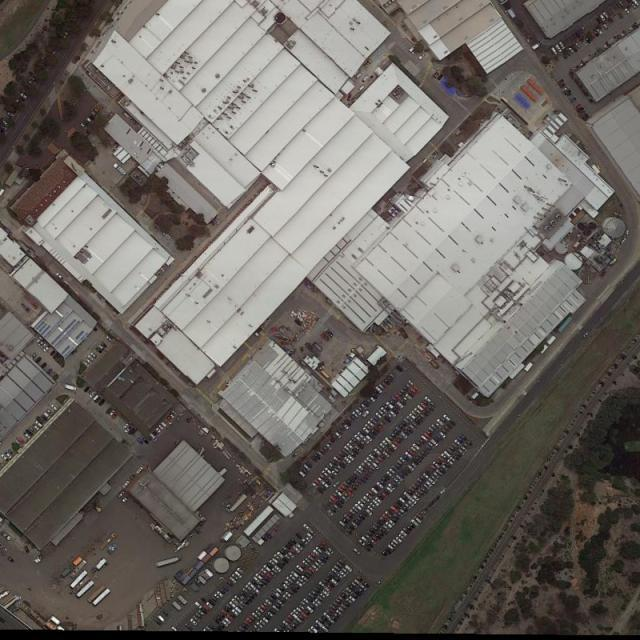vehicle: (408, 44, 418, 54), (364, 508, 374, 518), (55, 272, 65, 281), (203, 604, 213, 613), (207, 598, 217, 607), (315, 619, 324, 629), (371, 534, 380, 544), (374, 532, 383, 542), (383, 546, 393, 555), (410, 518, 419, 528), (361, 471, 370, 481), (373, 458, 382, 468), (434, 432, 444, 441), (440, 426, 449, 436), (370, 498, 379, 508), (530, 42, 541, 50), (426, 478, 437, 486), (414, 515, 422, 526), (194, 612, 203, 621), (234, 570, 243, 579), (37, 415, 46, 424), (34, 419, 43, 428), (325, 441, 334, 450), (345, 418, 354, 427), (353, 547, 362, 556), (357, 85, 366, 94), (390, 516, 399, 525), (432, 471, 441, 480), (402, 527, 411, 536), (346, 511, 355, 520), (358, 474, 367, 483), (365, 469, 374, 478), (367, 466, 376, 475), (377, 456, 386, 465), (382, 450, 391, 459), (417, 452, 426, 461), (420, 448, 429, 457), (377, 493, 386, 502), (43, 410, 51, 420), (46, 368, 54, 378), (122, 480, 130, 490), (334, 430, 342, 440), (337, 427, 345, 437), (318, 542, 326, 552), (344, 565, 354, 573), (338, 570, 348, 578), (418, 52, 426, 62), (392, 514, 402, 522), (602, 12, 610, 22), (429, 475, 439, 483), (438, 487, 448, 495), (392, 440, 402, 448), (401, 431, 409, 441), (414, 417, 422, 427), (417, 415, 425, 425), (411, 458, 421, 466), (190, 618, 198, 627), (265, 532, 274, 540), (193, 615, 201, 624), (201, 607, 209, 616), (50, 403, 59, 411), (231, 573, 240, 581), (258, 580, 266, 589), (309, 529, 318, 537), (31, 423, 40, 431), (4, 451, 13, 459), (26, 429, 35, 437), (135, 466, 144, 474), (89, 390, 98, 398), (94, 395, 102, 404), (98, 398, 106, 407), (106, 406, 114, 415), (323, 611, 332, 619), (347, 582, 356, 590), (319, 447, 327, 456), (396, 365, 404, 374), (305, 557, 313, 566), (322, 539, 330, 548), (275, 602, 283, 611), (277, 599, 285, 608), (279, 597, 288, 605), (294, 582, 302, 591), (334, 575, 342, 584), (303, 607, 311, 616), (306, 605, 314, 614), (411, 409, 419, 418), (342, 492, 350, 501), (348, 486, 357, 494), (397, 401, 405, 410), (404, 393, 413, 401), (407, 390, 416, 398), (356, 70, 364, 79), (391, 407, 399, 416), (356, 442, 365, 450), (345, 490, 354, 498), (366, 541, 375, 549), (385, 522, 394, 530), (412, 494, 421, 502), (390, 506, 399, 514), (393, 502, 402, 510), (395, 499, 404, 507), (417, 488, 425, 497), (422, 483, 431, 491), (571, 44, 579, 53), (424, 480, 433, 488), (446, 458, 455, 466), (450, 456, 458, 465), (390, 541, 398, 550), (394, 536, 402, 545), (400, 530, 409, 538), (354, 503, 362, 512), (399, 456, 408, 464), (355, 478, 363, 487), (379, 454, 388, 462), (385, 447, 393, 456), (390, 442, 398, 451), (403, 429, 412, 437), (389, 479, 398, 487), (395, 474, 404, 482), (433, 435, 442, 443), (444, 424, 452, 433), (385, 486, 394, 494), (434, 420, 442, 429), (437, 418, 446, 426), (158, 614, 166, 623), (288, 588, 295, 598), (410, 422, 417, 432), (106, 335, 114, 343), (206, 602, 214, 610), (210, 596, 218, 604), (46, 409, 54, 417), (34, 337, 42, 345), (30, 352, 38, 360), (280, 547, 288, 555), (290, 538, 298, 546), (295, 532, 303, 540), (222, 620, 230, 628), (229, 610, 237, 618), (234, 606, 242, 614), (240, 600, 248, 608), (263, 575, 271, 583), (266, 572, 274, 580), (41, 414, 49, 422), (357, 586, 365, 594), (118, 491, 126, 499), (122, 422, 130, 430), (298, 470, 306, 478), (303, 464, 311, 472), (306, 461, 314, 469), (337, 454, 345, 462), (345, 446, 353, 454), (382, 403, 390, 411), (386, 401, 394, 409), (322, 444, 330, 452), (342, 422, 350, 430), (370, 393, 378, 401), (376, 387, 384, 395), (387, 375, 395, 383), (384, 378, 392, 386), (294, 568, 302, 576), (296, 565, 304, 573), (302, 560, 310, 568), (307, 554, 315, 562), (313, 549, 321, 557), (315, 546, 323, 554), (273, 606, 281, 614), (282, 594, 290, 602), (291, 570, 299, 578), (286, 576, 294, 584), (293, 546, 301, 554), (298, 578, 306, 586), (310, 567, 318, 575), (311, 564, 319, 572), (314, 562, 322, 570), (287, 615, 295, 623), (384, 437, 392, 445), (398, 422, 406, 430), (414, 407, 422, 415), (417, 404, 425, 412), (420, 402, 428, 410), (422, 398, 430, 406), (338, 498, 346, 506), (330, 495, 338, 503), (358, 465, 366, 473), (361, 462, 369, 470), (399, 398, 407, 406), (402, 395, 410, 403), (413, 384, 421, 392), (389, 410, 397, 418), (386, 412, 394, 420), (331, 470, 339, 478), (337, 464, 345, 472), (340, 460, 348, 468), (352, 447, 360, 455), (373, 426, 381, 434), (379, 421, 387, 429), (381, 526, 389, 534), (462, 442, 470, 450), (369, 538, 377, 546), (374, 522, 382, 530), (402, 506, 410, 514), (408, 500, 416, 508), (414, 491, 422, 499), (382, 513, 390, 521), (402, 494, 410, 502), (406, 488, 414, 496), (420, 486, 428, 494), (574, 103, 582, 111), (558, 42, 566, 50), (574, 42, 582, 50), (602, 23, 610, 31), (625, 8, 633, 16), (630, 2, 638, 10), (557, 78, 565, 86), (440, 464, 448, 472), (442, 462, 450, 470), (387, 544, 395, 552), (398, 534, 406, 542), (407, 522, 415, 530), (344, 514, 352, 522), (358, 501, 366, 509), (377, 482, 385, 490), (402, 454, 410, 462), (430, 402, 438, 410), (422, 410, 430, 418), (370, 464, 378, 472), (371, 462, 379, 470), (398, 435, 406, 443), (406, 426, 414, 434), (419, 413, 427, 421), (404, 466, 412, 474), (406, 463, 414, 471), (423, 446, 431, 454), (438, 430, 446, 438), (446, 422, 454, 430), (358, 539, 366, 547), (388, 483, 396, 491), (430, 423, 438, 431), (443, 414, 451, 422), (354, 518, 362, 526), (226, 614, 235, 621), (237, 568, 246, 575), (28, 426, 37, 433), (124, 425, 131, 434), (137, 437, 144, 446), (316, 451, 325, 458), (368, 396, 377, 403), (298, 613, 305, 622), (301, 610, 308, 619), (307, 569, 314, 578), (320, 556, 327, 565), (329, 547, 336, 556), (363, 460, 372, 467), (333, 467, 342, 474), (359, 439, 368, 446), (376, 423, 383, 432), (383, 416, 392, 423), (456, 448, 465, 455), (378, 529, 385, 538), (564, 49, 571, 58), (619, 1, 626, 10), (338, 521, 347, 528), (406, 451, 413, 460), (387, 445, 394, 454), (396, 438, 405, 445), (408, 449, 417, 456), (430, 439, 439, 446), (90, 352, 98, 359), (262, 535, 269, 543), (155, 618, 162, 626), (226, 581, 234, 588), (198, 610, 206, 617), (194, 602, 202, 609), (214, 594, 222, 601), (217, 590, 224, 598), (219, 588, 226, 596), (88, 354, 95, 362), (44, 345, 51, 353), (35, 356, 42, 364), (40, 362, 47, 370), (222, 585, 230, 592), (229, 577, 237, 584), (231, 609, 239, 616), (218, 622, 225, 630), (224, 617, 232, 624), (251, 590, 258, 598), (274, 554, 282, 561), (303, 524, 311, 531), (230, 601, 237, 609), (232, 598, 239, 606), (238, 593, 246, 600), (251, 578, 258, 586), (1, 454, 8, 462), (7, 449, 15, 456), (24, 433, 32, 440), (93, 394, 100, 402), (112, 412, 119, 420), (310, 626, 318, 633), (142, 438, 150, 445), (171, 411, 178, 419), (351, 592, 359, 599), (318, 618, 326, 625), (335, 598, 343, 605), (342, 589, 350, 596), (346, 586, 353, 594), (350, 580, 358, 587), (360, 583, 368, 590), (322, 626, 330, 633), (322, 470, 329, 478), (331, 459, 339, 466), (347, 442, 354, 450), (363, 426, 370, 434), (375, 412, 382, 420), (378, 410, 386, 417), (325, 467, 332, 475), (355, 408, 362, 416), (363, 399, 370, 407), (378, 384, 386, 391), (314, 478, 321, 486), (314, 622, 321, 630), (277, 562, 284, 570), (311, 552, 318, 560), (259, 620, 267, 627), (315, 598, 322, 606), (262, 617, 270, 624), (265, 614, 272, 622), (267, 611, 275, 618), (270, 608, 277, 616), (286, 591, 293, 599), (282, 557, 290, 564), (299, 540, 306, 548), (266, 598, 273, 606), (270, 592, 278, 599), (281, 582, 288, 590), (342, 567, 350, 574), (332, 578, 339, 586), (325, 586, 332, 594), (286, 624, 294, 631), (290, 622, 297, 630), (294, 618, 301, 626), (322, 590, 330, 597), (316, 585, 324, 592), (304, 571, 311, 579), (318, 558, 325, 566), (323, 554, 330, 562), (291, 612, 298, 620), (306, 595, 314, 602), (374, 448, 382, 455), (379, 442, 386, 450), (382, 439, 389, 447), (387, 434, 394, 442), (390, 432, 398, 439), (393, 430, 401, 437), (395, 426, 403, 433), (402, 419, 409, 427), (407, 414, 414, 422), (330, 507, 338, 514), (333, 503, 340, 511), (333, 492, 340, 500), (350, 473, 358, 480), (410, 387, 418, 394), (334, 480, 341, 488), (348, 454, 355, 462), (366, 435, 374, 442), (368, 431, 376, 438), (371, 429, 378, 437), (465, 439, 473, 446), (459, 445, 467, 452), (454, 451, 462, 458), (364, 546, 372, 553), (399, 509, 407, 516), (405, 502, 412, 510), (410, 498, 418, 505), (459, 434, 466, 442), (457, 436, 464, 444), (454, 439, 462, 446), (387, 508, 395, 515), (398, 497, 406, 504), (404, 491, 411, 499), (414, 480, 422, 487), (438, 456, 446, 463), (446, 448, 454, 455), (562, 85, 570, 92), (570, 96, 578, 103), (578, 109, 586, 116), (551, 47, 558, 55), (599, 14, 606, 22), (435, 470, 443, 477), (438, 467, 446, 474), (381, 549, 388, 557), (393, 538, 400, 546), (406, 525, 414, 532), (376, 519, 384, 526), (354, 481, 361, 489), (341, 518, 349, 525), (379, 479, 386, 487), (384, 474, 392, 481), (386, 471, 394, 478), (394, 463, 402, 470), (428, 405, 436, 412), (412, 421, 419, 429), (410, 446, 418, 453), (413, 443, 421, 450), (402, 469, 410, 476), (410, 461, 418, 468), (414, 455, 422, 462), (426, 443, 434, 450), (366, 530, 374, 537), (418, 438, 426, 445), (420, 435, 428, 442), (426, 430, 434, 437), (345, 527, 353, 534), (356, 515, 363, 523), (358, 514, 366, 521), (362, 510, 369, 518), (366, 505, 374, 512), (370, 502, 377, 510), (374, 497, 382, 504), (380, 490, 387, 498), (427, 442, 436, 448), (422, 433, 431, 439), (95, 346, 102, 353), (101, 342, 108, 349), (200, 597, 207, 604), (85, 358, 92, 365), (38, 339, 45, 346), (41, 342, 48, 349), (50, 350, 57, 357), (243, 598, 250, 605), (246, 595, 253, 602), (262, 578, 269, 585), (272, 557, 279, 564), (226, 604, 233, 611), (235, 596, 242, 603), (243, 588, 250, 595), (249, 582, 256, 589), (270, 570, 277, 577), (274, 565, 281, 572), (109, 410, 116, 417), (122, 496, 129, 503), (149, 433, 156, 440), (322, 615, 329, 622), (338, 595, 345, 602), (354, 578, 361, 585), (335, 609, 342, 616), (302, 468, 309, 475), (343, 449, 350, 456), (351, 437, 358, 444), (354, 434, 361, 441), (358, 431, 365, 438), (359, 429, 366, 436), (373, 415, 380, 422), (389, 399, 396, 406), (311, 456, 318, 463), (314, 453, 321, 460), (350, 414, 357, 421), (256, 623, 263, 630), (299, 562, 306, 569), (254, 625, 261, 632), (288, 551, 295, 558), (302, 538, 309, 545), (252, 611, 259, 618), (258, 606, 265, 613), (328, 581, 335, 588), (296, 618, 303, 625), (319, 581, 326, 588), (302, 575, 309, 582), (285, 618, 292, 625), (314, 587, 321, 594), (426, 396, 433, 403), (327, 510, 334, 517), (341, 495, 348, 502), (377, 446, 384, 453), (371, 451, 378, 458), (335, 490, 342, 497), (346, 479, 353, 486), (348, 477, 355, 484), (317, 486, 324, 493), (319, 484, 326, 491), (322, 481, 329, 488), (326, 478, 333, 485), (383, 523, 390, 530), (387, 519, 394, 526), (397, 511, 404, 518), (451, 442, 458, 449), (385, 510, 392, 517), (409, 486, 416, 493), (423, 472, 430, 479), (441, 453, 448, 460), (577, 106, 584, 113), (372, 525, 379, 532), (366, 493, 373, 500), (369, 490, 376, 497), (370, 527, 377, 534), (382, 477, 389, 484), (390, 468, 397, 475), (392, 466, 399, 473), (450, 420, 457, 427), (394, 477, 401, 484), (428, 427, 435, 434), (440, 417, 447, 424), (351, 522, 358, 529), (383, 488, 390, 495), (98, 344, 106, 350), (82, 361, 90, 367), (254, 586, 260, 594), (266, 562, 274, 568), (306, 533, 314, 539), (241, 590, 247, 598), (354, 590, 362, 596), (349, 596, 357, 602), (346, 598, 354, 604), (343, 601, 351, 607), (333, 602, 341, 608), (370, 418, 378, 424), (292, 586, 298, 594), (297, 542, 303, 550), (246, 617, 254, 623), (274, 590, 280, 598), (329, 571, 335, 579), (280, 622, 286, 630), (6, 556, 14, 562), (24, 545, 30, 553), (355, 468, 363, 474), (366, 457, 374, 463), (345, 457, 351, 465), (350, 452, 358, 458), (362, 438, 370, 444), (350, 484, 358, 490), (416, 478, 424, 484), (420, 474, 426, 482), (433, 462, 441, 468), (444, 450, 450, 458), (556, 43, 562, 51), (568, 46, 574, 54), (561, 51, 567, 59), (598, 27, 604, 35), (353, 506, 359, 514), (360, 499, 368, 505), (362, 496, 370, 502), (426, 408, 434, 414), (129, 427, 134, 436), (272, 525, 278, 532), (85, 386, 91, 393), (278, 551, 284, 558), (283, 546, 290, 552), (286, 542, 292, 549), (288, 541, 294, 548), (238, 604, 245, 610), (248, 592, 255, 598), (256, 584, 263, 590), (217, 615, 223, 622), (224, 607, 231, 613), (261, 568, 268, 574), (264, 566, 271, 572), (272, 567, 278, 574), (129, 474, 136, 480), (145, 435, 151, 442), (155, 428, 162, 434), (158, 424, 165, 430), (169, 410, 175, 417), (327, 610, 334, 616), (330, 607, 336, 614), (331, 604, 338, 610), (340, 593, 347, 599), (324, 622, 331, 628), (327, 620, 334, 626), (338, 606, 345, 612), (341, 603, 347, 610), (330, 462, 336, 469), (341, 451, 347, 458), (365, 424, 372, 430), (367, 422, 374, 428), (317, 475, 323, 482), (339, 425, 346, 431), (353, 411, 359, 418), (381, 382, 388, 388), (311, 482, 318, 488), (290, 574, 296, 581), (286, 553, 292, 560), (242, 624, 249, 630), (244, 620, 251, 626), (250, 615, 256, 622), (261, 603, 267, 610), (263, 602, 270, 608), (297, 581, 303, 588), (335, 565, 341, 572), (338, 574, 345, 580), (310, 603, 316, 610), (317, 595, 324, 601), (326, 551, 332, 558), (309, 593, 316, 599), (311, 590, 318, 596), (404, 418, 411, 424), (409, 412, 415, 419), (335, 502, 342, 508), (369, 454, 376, 460), (338, 487, 344, 494), (343, 482, 350, 488), (354, 470, 360, 477), (395, 405, 401, 412), (453, 453, 459, 460), (379, 517, 386, 523), (412, 483, 418, 490), (430, 464, 437, 470), (450, 445, 456, 452), (564, 89, 571, 95), (372, 487, 378, 494), (350, 510, 356, 517), (361, 536, 368, 542), (364, 533, 371, 539), (416, 441, 423, 447), (349, 525, 356, 531), (1, 616, 6, 624), (341, 558, 346, 566), (326, 574, 331, 582), (399, 473, 407, 478), (214, 618, 220, 624), (220, 613, 226, 619), (222, 610, 228, 616), (246, 585, 252, 591), (254, 576, 260, 582), (259, 570, 265, 576), (330, 618, 336, 624), (332, 616, 338, 622), (381, 407, 387, 413), (392, 397, 398, 403), (320, 473, 326, 479), (313, 601, 319, 607), (280, 560, 286, 566), (256, 609, 262, 615), (269, 597, 275, 603), (276, 587, 282, 593), (278, 585, 284, 591), (322, 578, 328, 584), (332, 568, 338, 574), (320, 593, 326, 599), (283, 620, 289, 626), (298, 604, 304, 610), (301, 601, 307, 607), (398, 391, 404, 397), (403, 385, 409, 391), (341, 485, 347, 491), (436, 459, 442, 465), (375, 485, 381, 491), (398, 461, 404, 467), (351, 442, 358, 447), (362, 403, 367, 410), (306, 535, 311, 542), (277, 626, 284, 631), (297, 606, 302, 613), (304, 598, 309, 605), (394, 394, 401, 399), (326, 502, 333, 507), (330, 473, 335, 480), (256, 574, 262, 579), (335, 457, 341, 462), (285, 580, 290, 586), (338, 562, 343, 568), (294, 610, 300, 615), (401, 389, 407, 394), (406, 383, 411, 389), (409, 380, 414, 386), (270, 560, 275, 565), (625, 1, 631, 4), (633, 1, 637, 2)
